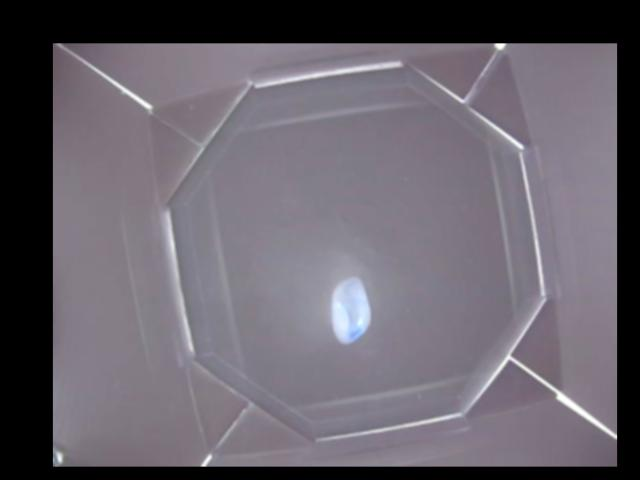Pebble: (332, 277, 370, 348)
